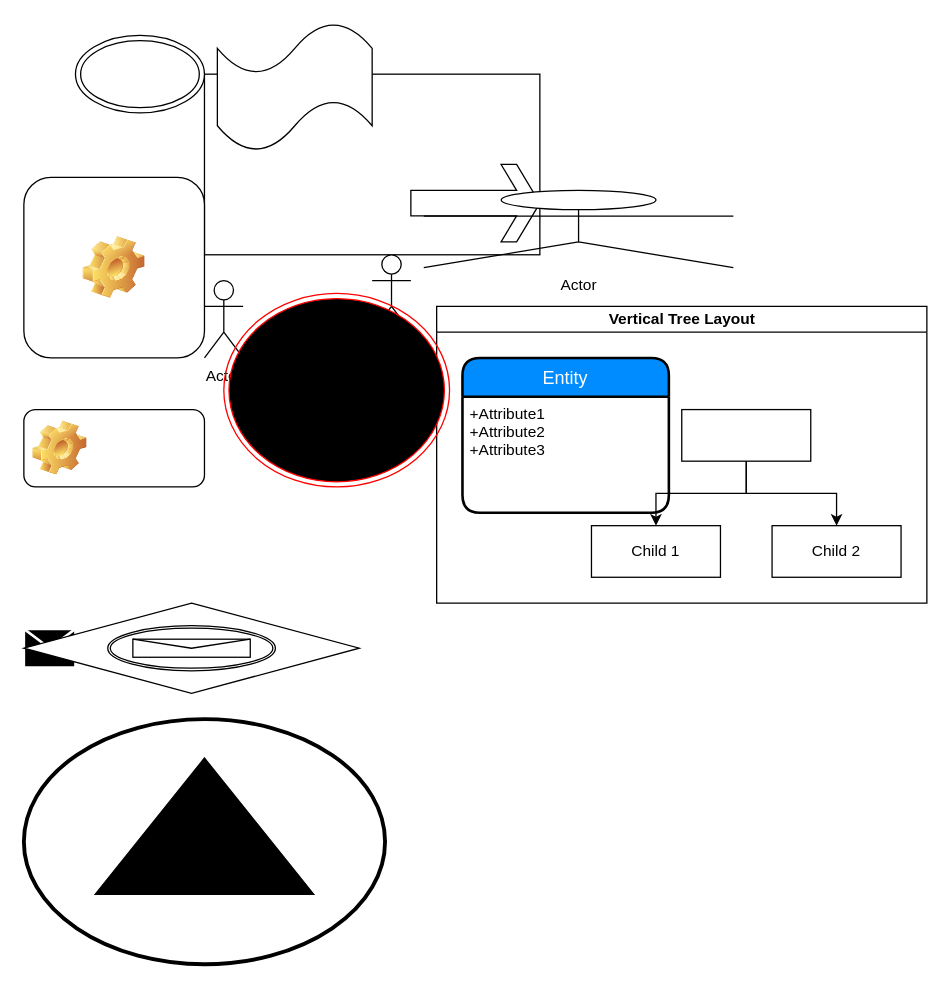
Some shapes in this 949 by 987 pixel diagram are drawn without their labels. Here are the shapes that lost their labels. From the top down, the centre of each, then its label:
pixel 113 267: Icon
pixel 113 447: Label
pixel 745 434: Root
